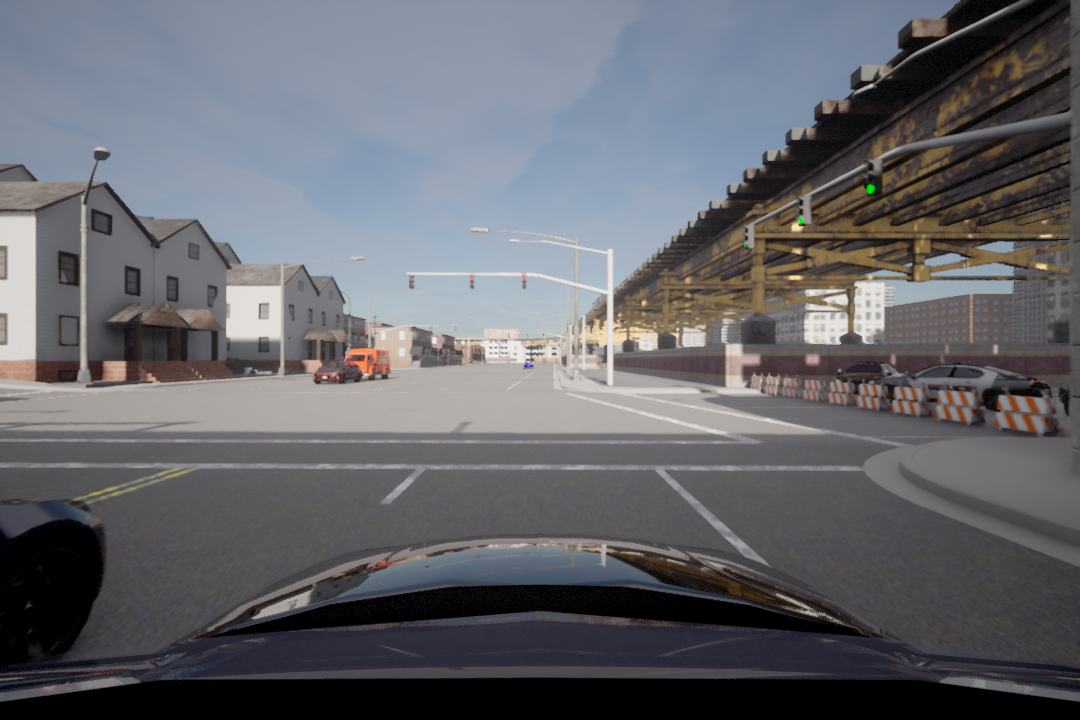RoadSign_forward: (863, 158, 884, 198), (795, 193, 814, 231), (742, 220, 757, 253), (466, 274, 477, 292), (407, 273, 417, 290), (517, 274, 527, 290)
